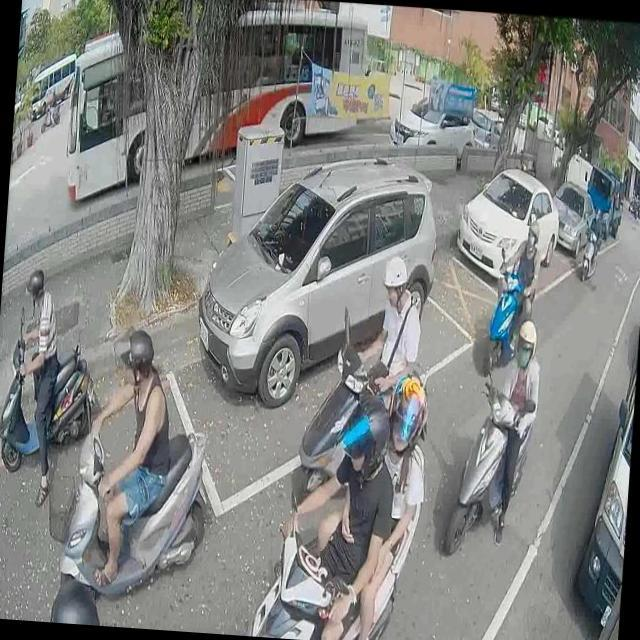person: (265, 387, 395, 640), (310, 369, 429, 640), (75, 317, 178, 595), (6, 262, 66, 500), (486, 308, 544, 548), (352, 253, 424, 407), (492, 217, 540, 326), (48, 568, 104, 624), (42, 85, 56, 128), (588, 208, 602, 236)
